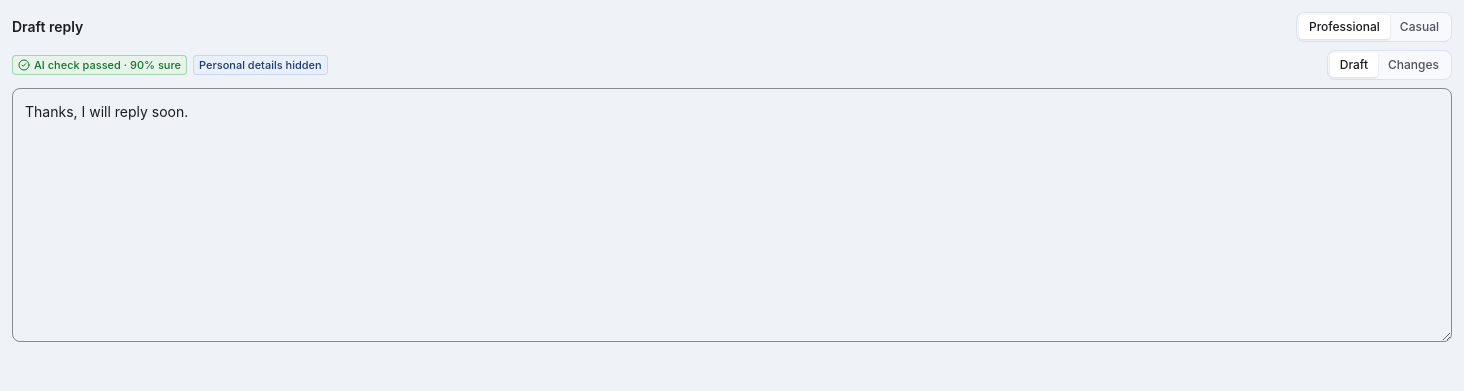
Scenario: the Changes view (#149) › says so when nothing changed
Step 1. Click the button "Changes" → (1414, 65), box [1378,53,1449,77]
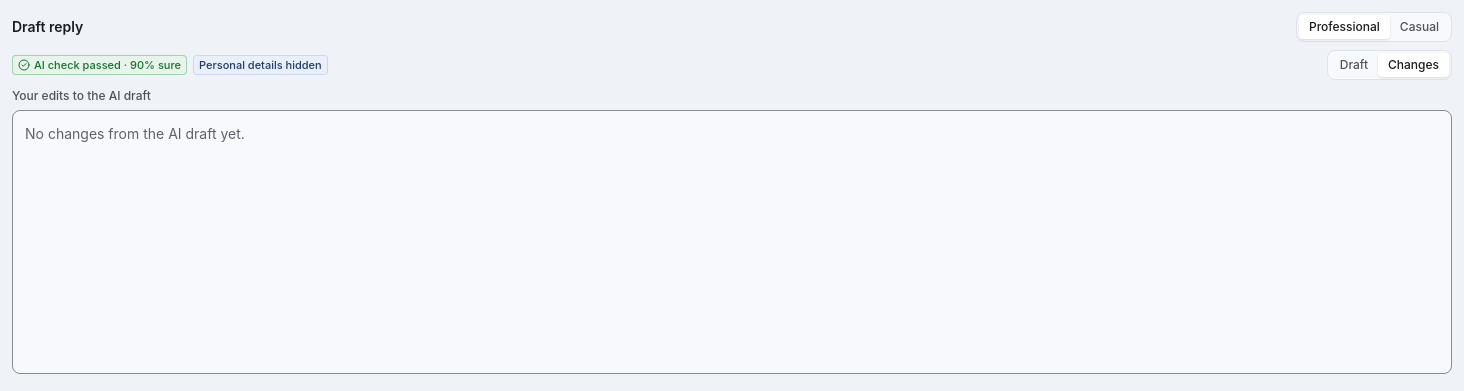
Result: the text "No changes from the AI draft yet." is shown at [25,125,245,142]
